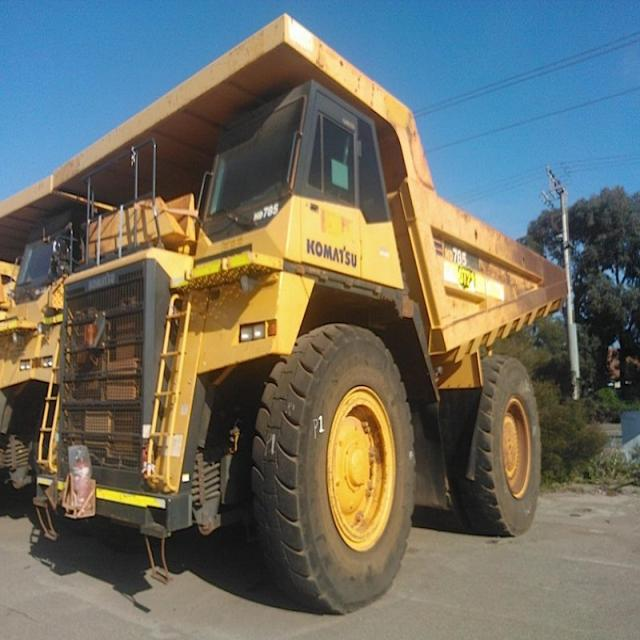dump_truck: (40, 7, 576, 605)
